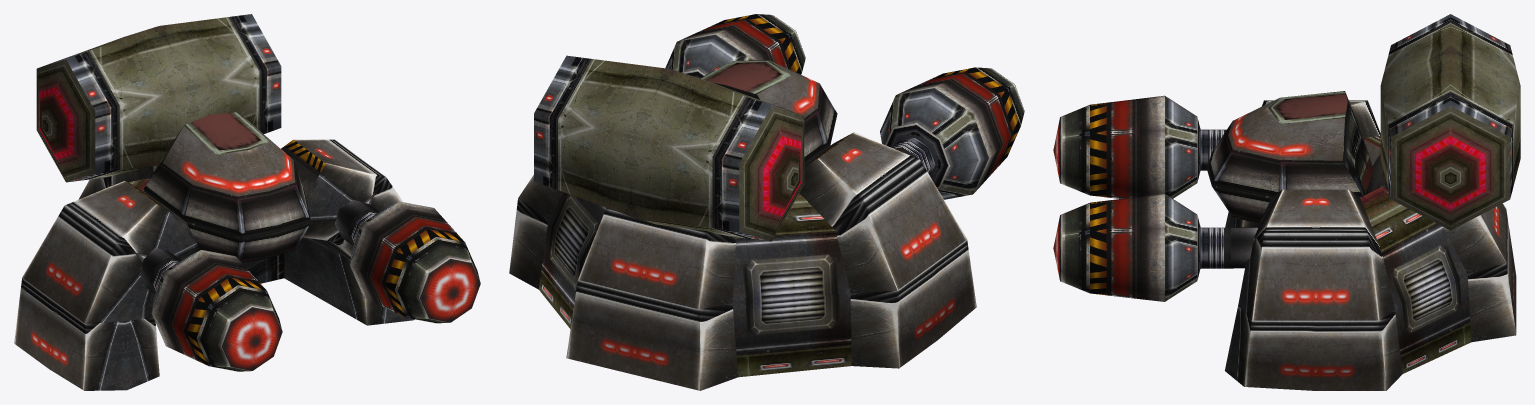
Rendered from flame-thrower-03.DAE.
The picture shows the model from 3 angles, left to right: view 1: azimuth 30°, elevation 25°; view 2: azimuth 150°, elevation 25°; view 3: azimuth 270°, elevation 25°; orthographic projection. The views are drawn at different scales.
Parts seen in each view (by area): view 1: flame-thrower-03; view 2: flame-thrower-03; view 3: flame-thrower-03.
Boxes of the visible parts, <box> form: flame-thrower-03: <box>14,14,480,390</box>; flame-thrower-03: <box>509,14,1024,390</box>; flame-thrower-03: <box>1053,14,1520,390</box>.
Bounding box in the file's own units: 4.15 × 4.7 × 2.85.
